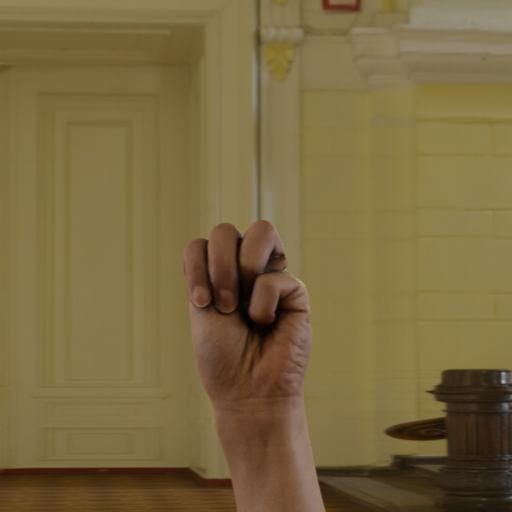M: (171, 214, 328, 428)
